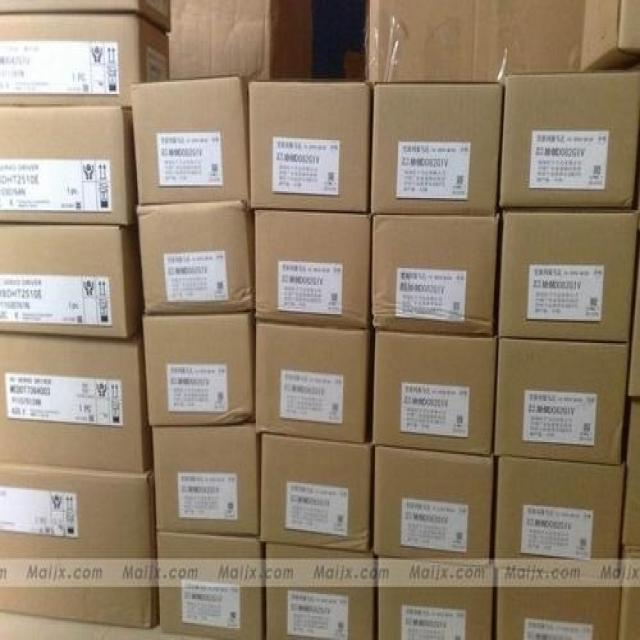box: (0, 463, 159, 628), (0, 331, 151, 473), (498, 70, 640, 208), (498, 208, 640, 341), (369, 84, 503, 215), (369, 0, 586, 80), (494, 340, 631, 464), (0, 225, 143, 338), (247, 82, 370, 213), (492, 457, 626, 577), (0, 106, 136, 224), (129, 75, 250, 205), (0, 12, 169, 104), (372, 215, 498, 338), (372, 445, 495, 570), (371, 333, 495, 456), (253, 208, 371, 329), (256, 321, 371, 444), (136, 200, 252, 316), (259, 433, 371, 551), (143, 312, 253, 427), (151, 425, 259, 536), (157, 534, 264, 640), (265, 543, 375, 640), (376, 558, 495, 640), (495, 568, 622, 640)
